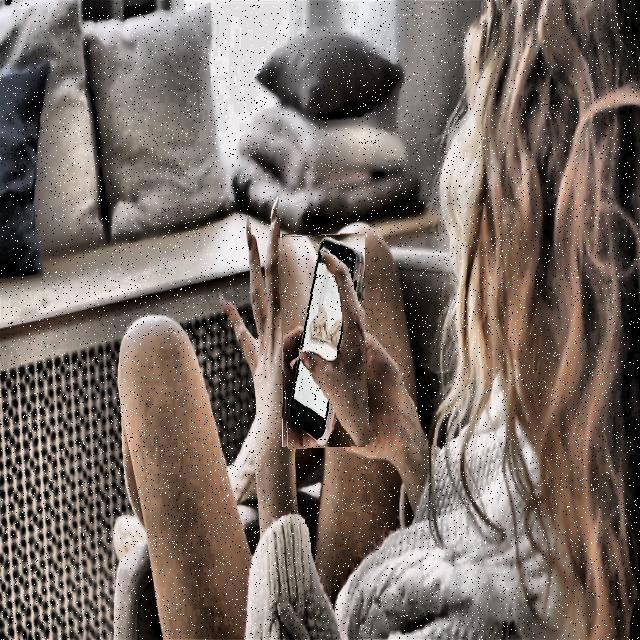Phone: (279, 233, 368, 448)
